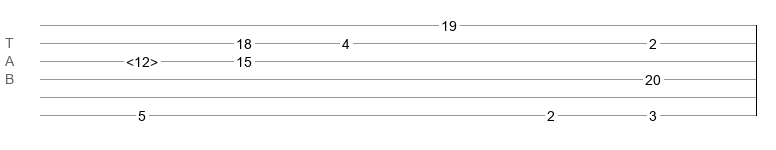15: (236, 54, 252, 64)
18: (236, 36, 252, 46)
19: (441, 18, 457, 28)
2: (547, 108, 555, 118), (649, 36, 657, 46)
20: (645, 72, 661, 82)
3: (649, 108, 657, 118)
4: (342, 36, 350, 46)
5: (138, 108, 146, 118)
harmonic: (126, 54, 158, 64)
